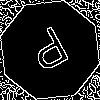P: (25, 25, 77, 82)
